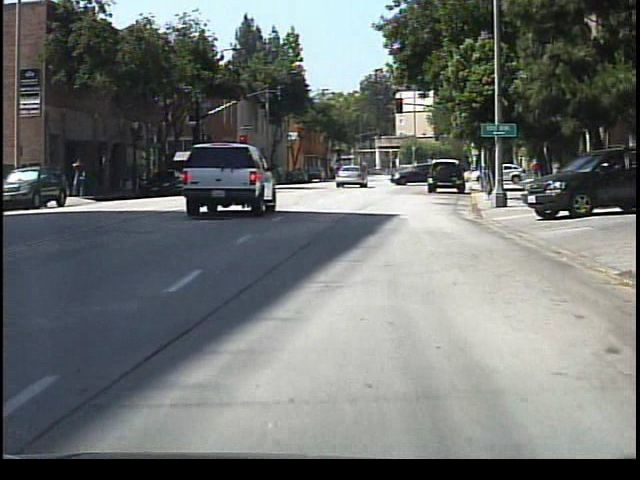person: (72, 157, 93, 200), (328, 162, 345, 187), (482, 155, 497, 182)
